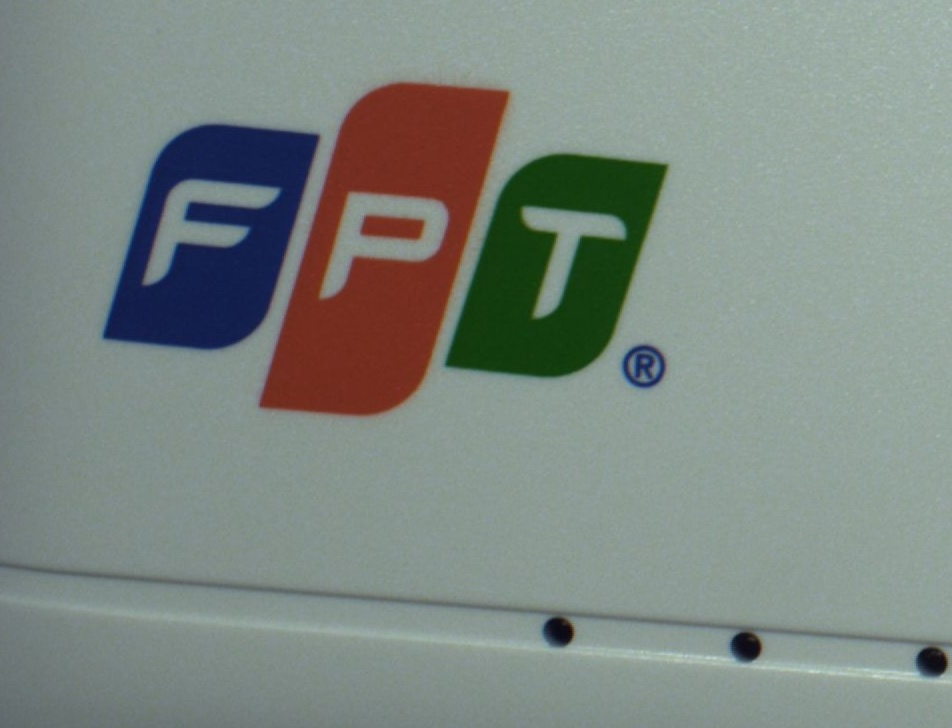BR_FPT: (84, 81, 676, 430)
